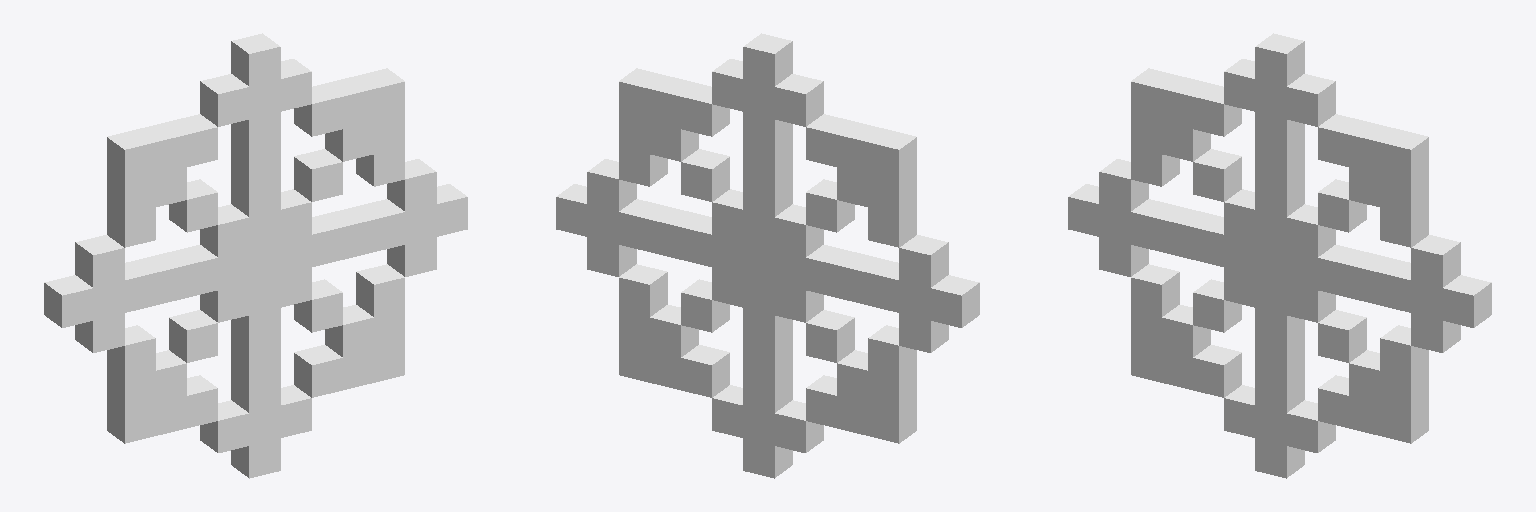
The model's file is snowflower.obj.
3 renders of one model, left to right at view 1: azimuth 30°, elevation 25°; view 2: azimuth 150°, elevation 25°; view 3: azimuth 330°, elevation 25°, orthographic.
Parts seen in each view (by area): view 1: object 1; view 2: object 1; view 3: object 1.
Part boxes in pixels (x1,y1,x2,y2): object 1: (44, 33, 467, 478); object 1: (556, 33, 979, 478); object 1: (1068, 33, 1491, 478).
Size of the model in its own units: 1.3 by 1.3 by 0.1.